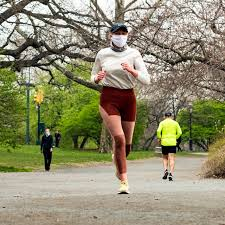mask: (108, 22, 129, 49), (43, 128, 50, 136)
